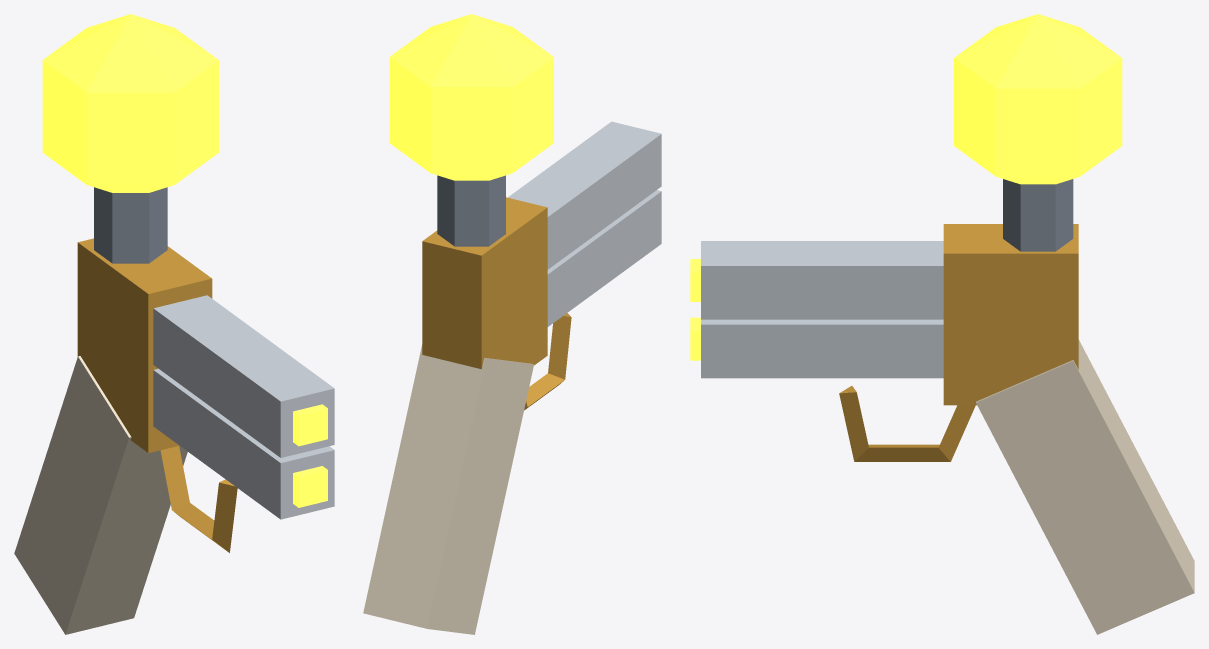
Rendered from Wpn_Blaster_Derringer.fbx.
3 renders of one model, left to right at view 1: azimuth 30°, elevation 25°; view 2: azimuth 150°, elevation 25°; view 3: azimuth 270°, elevation 25°, orthographic. The views are drawn at different scales.
Visible parts, largest first — view 1: Wpn_Blaster_Derringer_Body, Wpn_Blaster_Derringer_Bulb; view 2: Wpn_Blaster_Derringer_Body, Wpn_Blaster_Derringer_Bulb; view 3: Wpn_Blaster_Derringer_Body, Wpn_Blaster_Derringer_Bulb.
Boxes of the visible parts, x1,y1,x2,y2 form: Wpn_Blaster_Derringer_Body: (14,187,334,634); Wpn_Blaster_Derringer_Bulb: (42,14,218,192); Wpn_Blaster_Derringer_Body: (363,121,661,634); Wpn_Blaster_Derringer_Bulb: (389,14,553,180); Wpn_Blaster_Derringer_Body: (690,179,1194,634); Wpn_Blaster_Derringer_Bulb: (954,14,1122,184).
Bounding box in the file's own units: 0.054 × 0.2476 × 0.1871.
